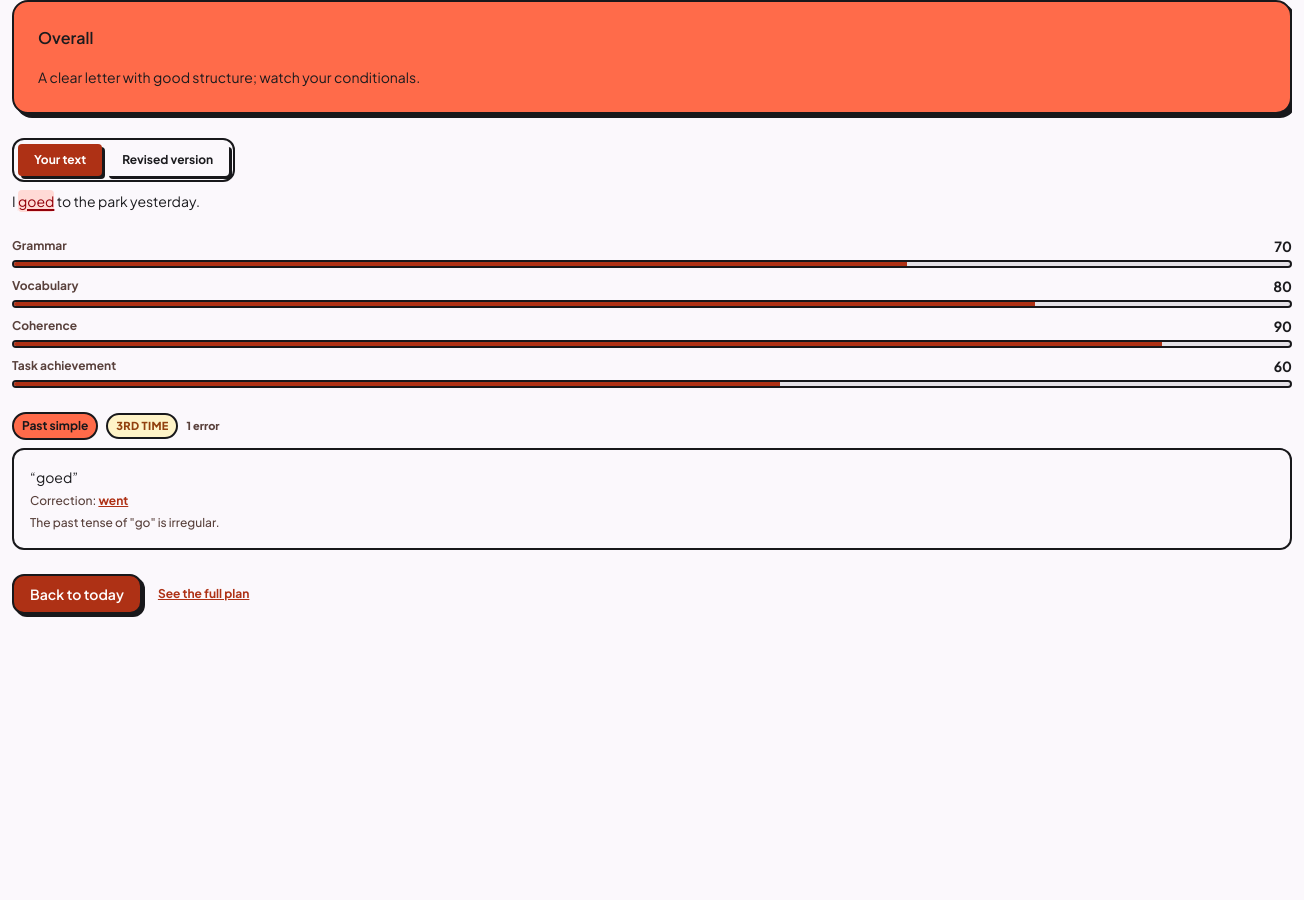
Test: WritingResult › the_toggle_switches_to_the_revised_version_with_changes_emphasized
Expected: the button with aria-label "goed — Past simple" is shown, [18,190,54,212]
Click the button "Revised version" at (168, 160), box [106,144,229,176]
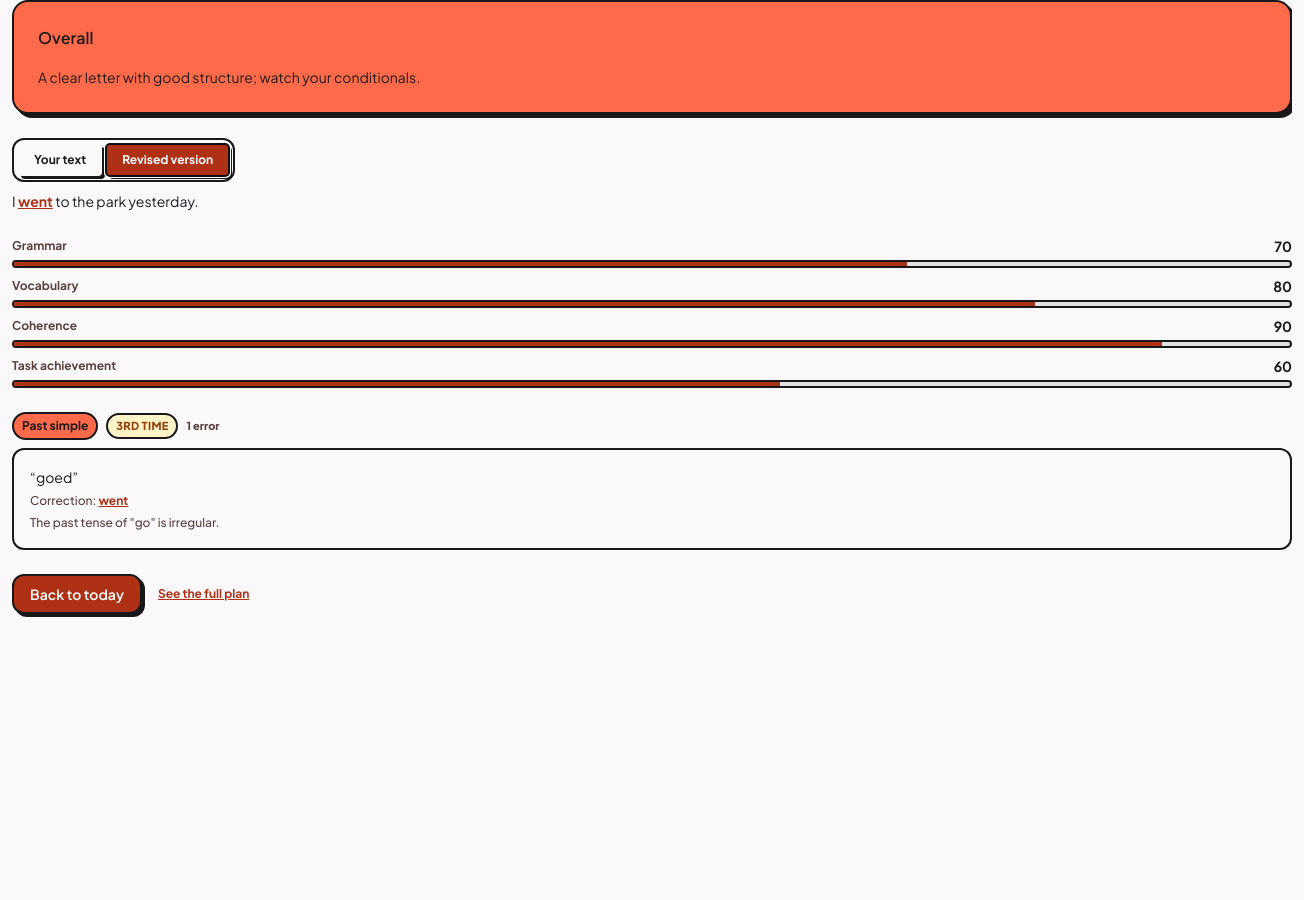
Expected: the element with class "whitespace-pre-line" reads "I went to the park yesterday.", [12,192,198,210]
